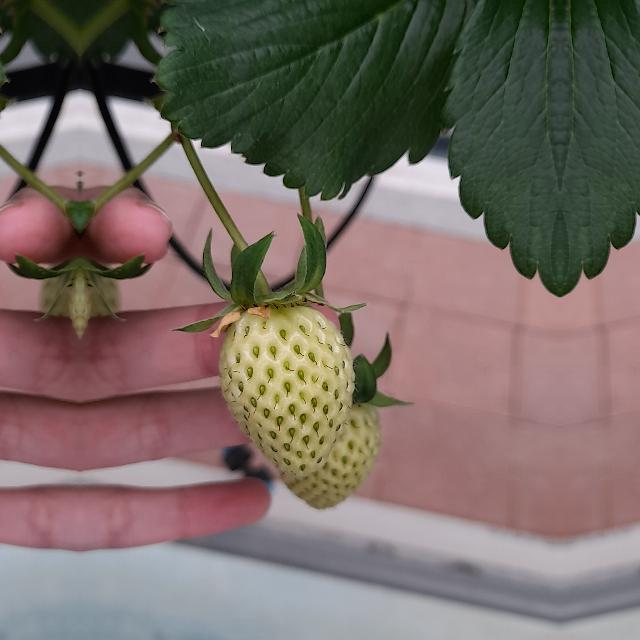Health_25: (219, 303, 355, 475), (276, 384, 390, 506)
